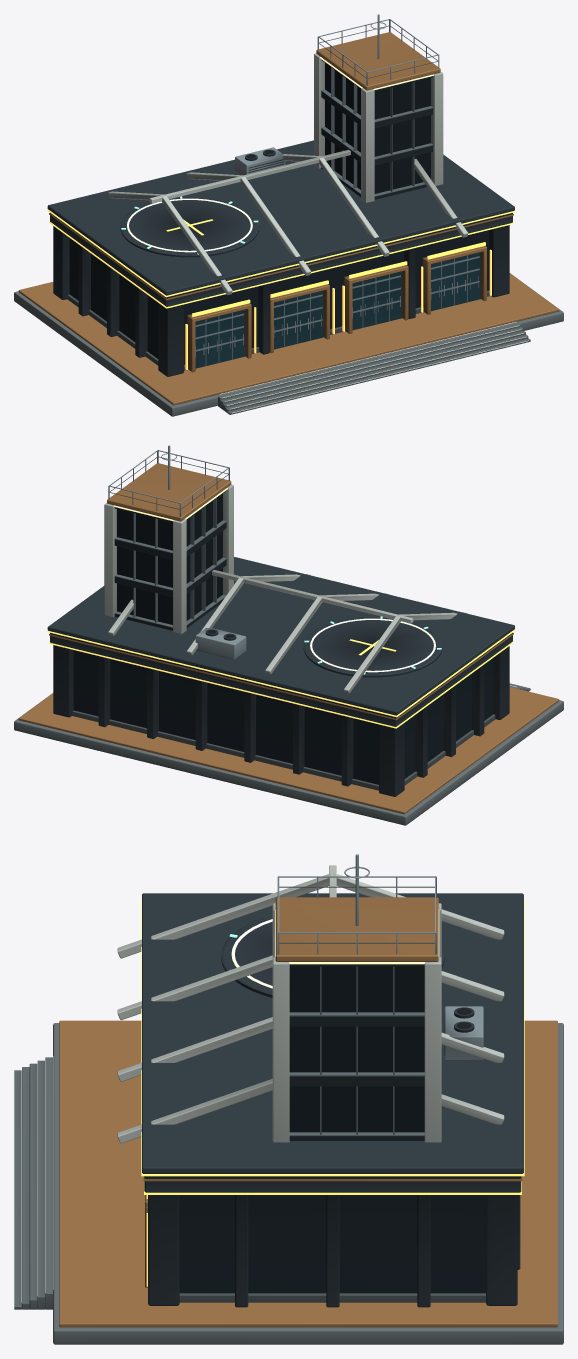
The model's file is mission-terminal.lod0.glb.
The picture shows the model from 3 angles, top to bottom: view 1: azimuth 30°, elevation 25°; view 2: azimuth 150°, elevation 25°; view 3: azimuth 270°, elevation 25°; orthographic projection. The views are drawn at different scales.
Visible parts, largest first — view 1: structure, lobby; view 2: structure, lobby; view 3: structure, lobby.
Part boxes in pixels (bbox=[...]): structure: bbox=[14, 14, 563, 416]; lobby: bbox=[69, 230, 488, 368]; structure: bbox=[14, 445, 563, 825]; lobby: bbox=[73, 650, 493, 784]; structure: bbox=[14, 854, 563, 1344]; lobby: bbox=[179, 1195, 485, 1293].
Size of the model in its own units: 30 by 19 by 22.61.
